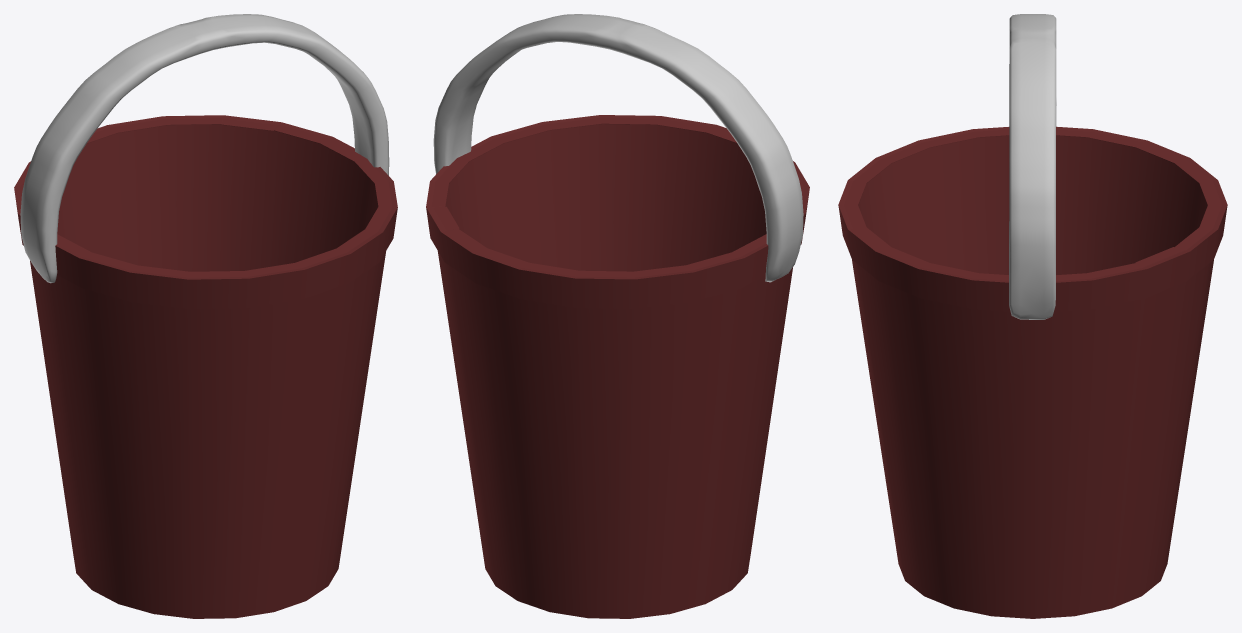
Rendered from Bucket for arcade.fbx.
The picture shows the model from 3 angles, left to right: view 1: azimuth 30°, elevation 25°; view 2: azimuth 150°, elevation 25°; view 3: azimuth 270°, elevation 25°; orthographic projection.
Parts seen in each view (by area): view 1: pCylinder1, pCube3; view 2: pCylinder1, pCube3; view 3: pCylinder1, pCube3.
Part boxes in pixels (left/top/right/bottom): pCylinder1: left=14, top=115, right=397, bottom=618; pCube3: left=20, top=14, right=389, bottom=283; pCylinder1: left=426, top=115, right=809, bottom=618; pCube3: left=433, top=14, right=803, bottom=282; pCylinder1: left=838, top=126, right=1227, bottom=618; pCube3: left=1009, top=14, right=1056, bottom=319.
Bounding box in the file's own units: 2.38 × 3.47 × 2.32.
